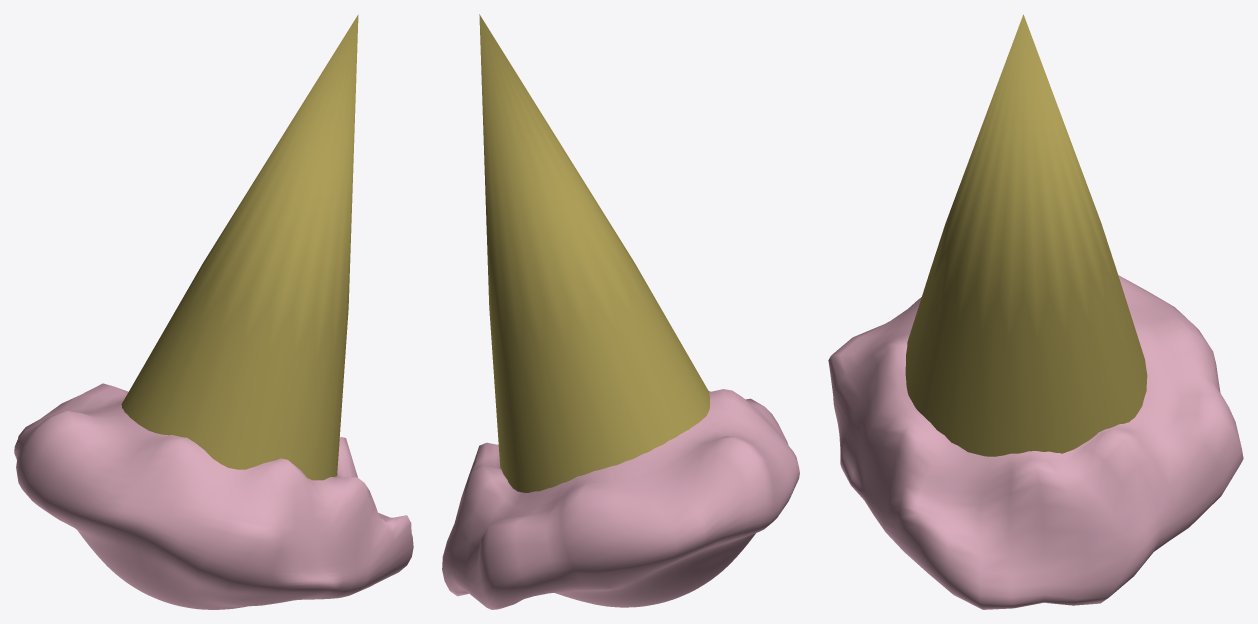
The model's file is icecreamhat.fbx.
The picture shows the model from 3 angles, left to right: view 1: azimuth 30°, elevation 25°; view 2: azimuth 150°, elevation 25°; view 3: azimuth 270°, elevation 25°; orthographic projection. The views are drawn at different scales.
Parts seen in each view (by area): view 1: cone; view 2: cone; view 3: cone.
Boxes of the visible parts, x1,y1,x2,y2 form: cone: (14, 14, 413, 609); cone: (442, 14, 799, 609); cone: (828, 14, 1243, 609).
Size of the model in its own units: 0.7326 by 1.14 by 0.7209.
